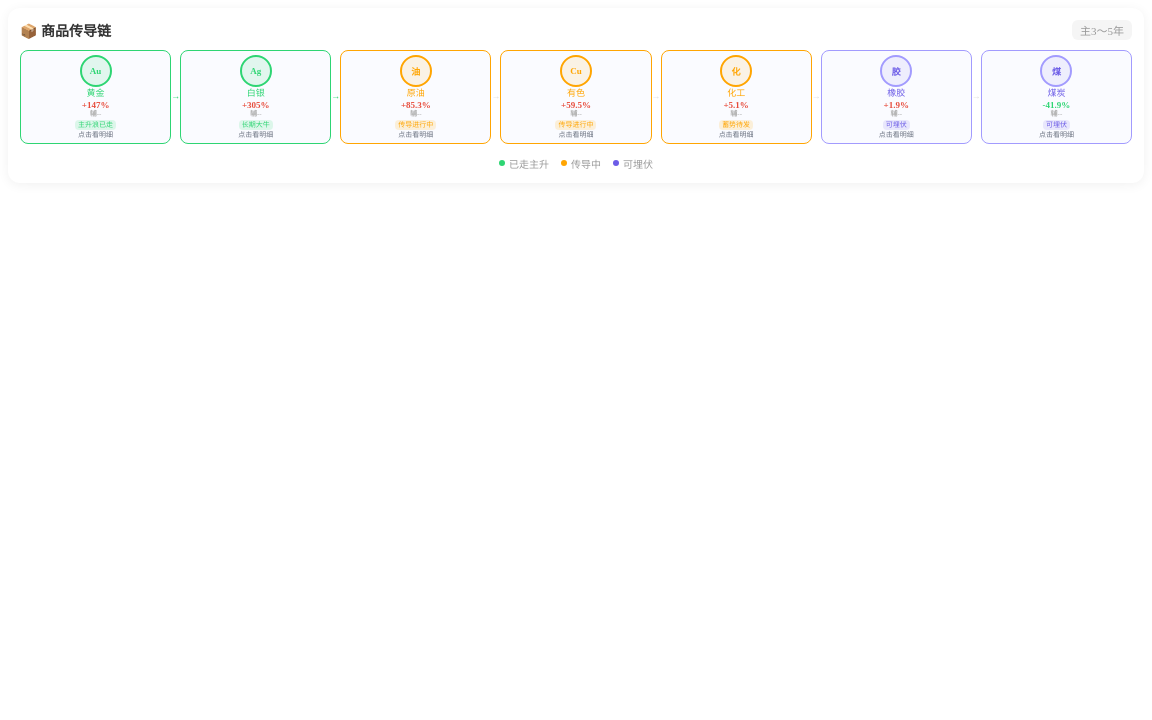
Test: CommodityChain › closes detail modal on Escape
This screenshot has width=1152, height=720.
Click the button with test id "chain-node-518880" at (96, 97), box left=20, top=50, right=171, bottom=144
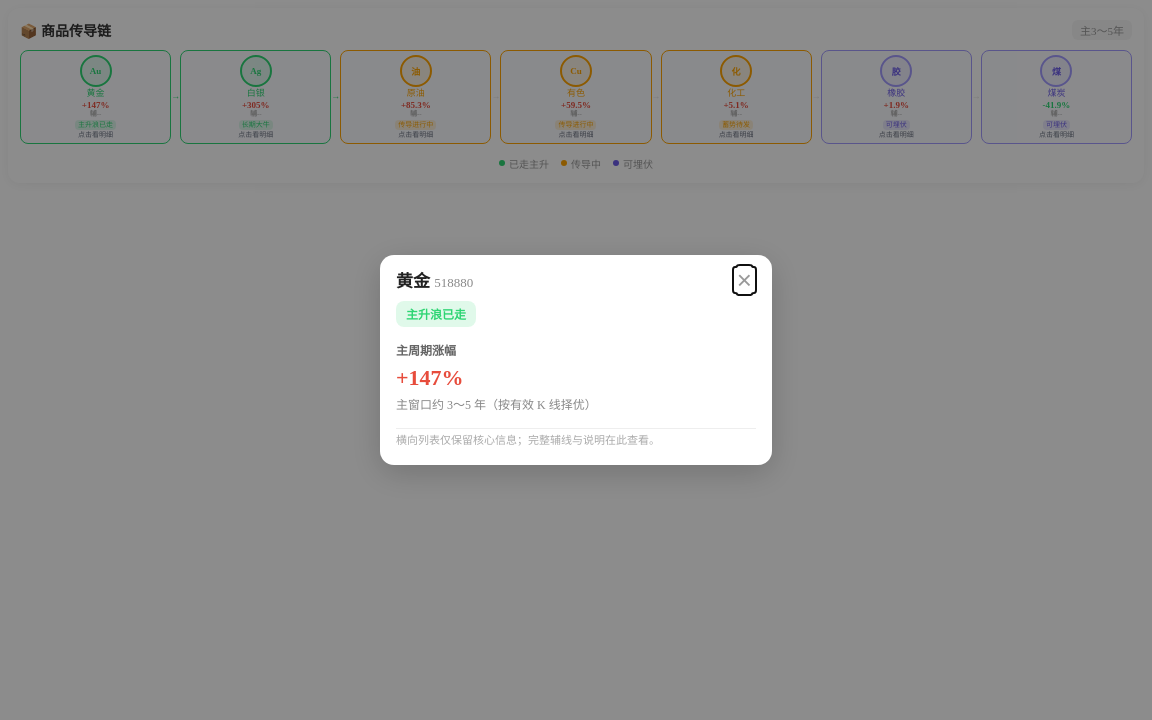
Expected: the dialog with test id "chain-detail-dialog" is shown, left=380, top=255, right=772, bottom=465
Press Escape
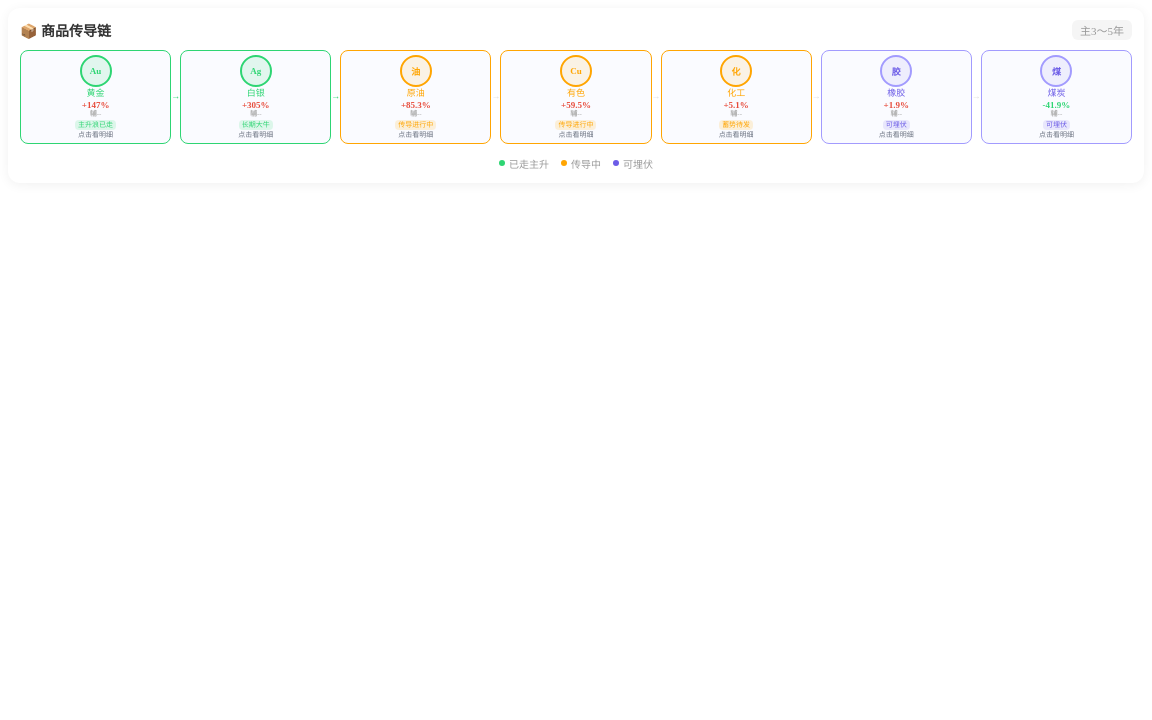
Expected: the dialog with test id "chain-detail-dialog" is gone
